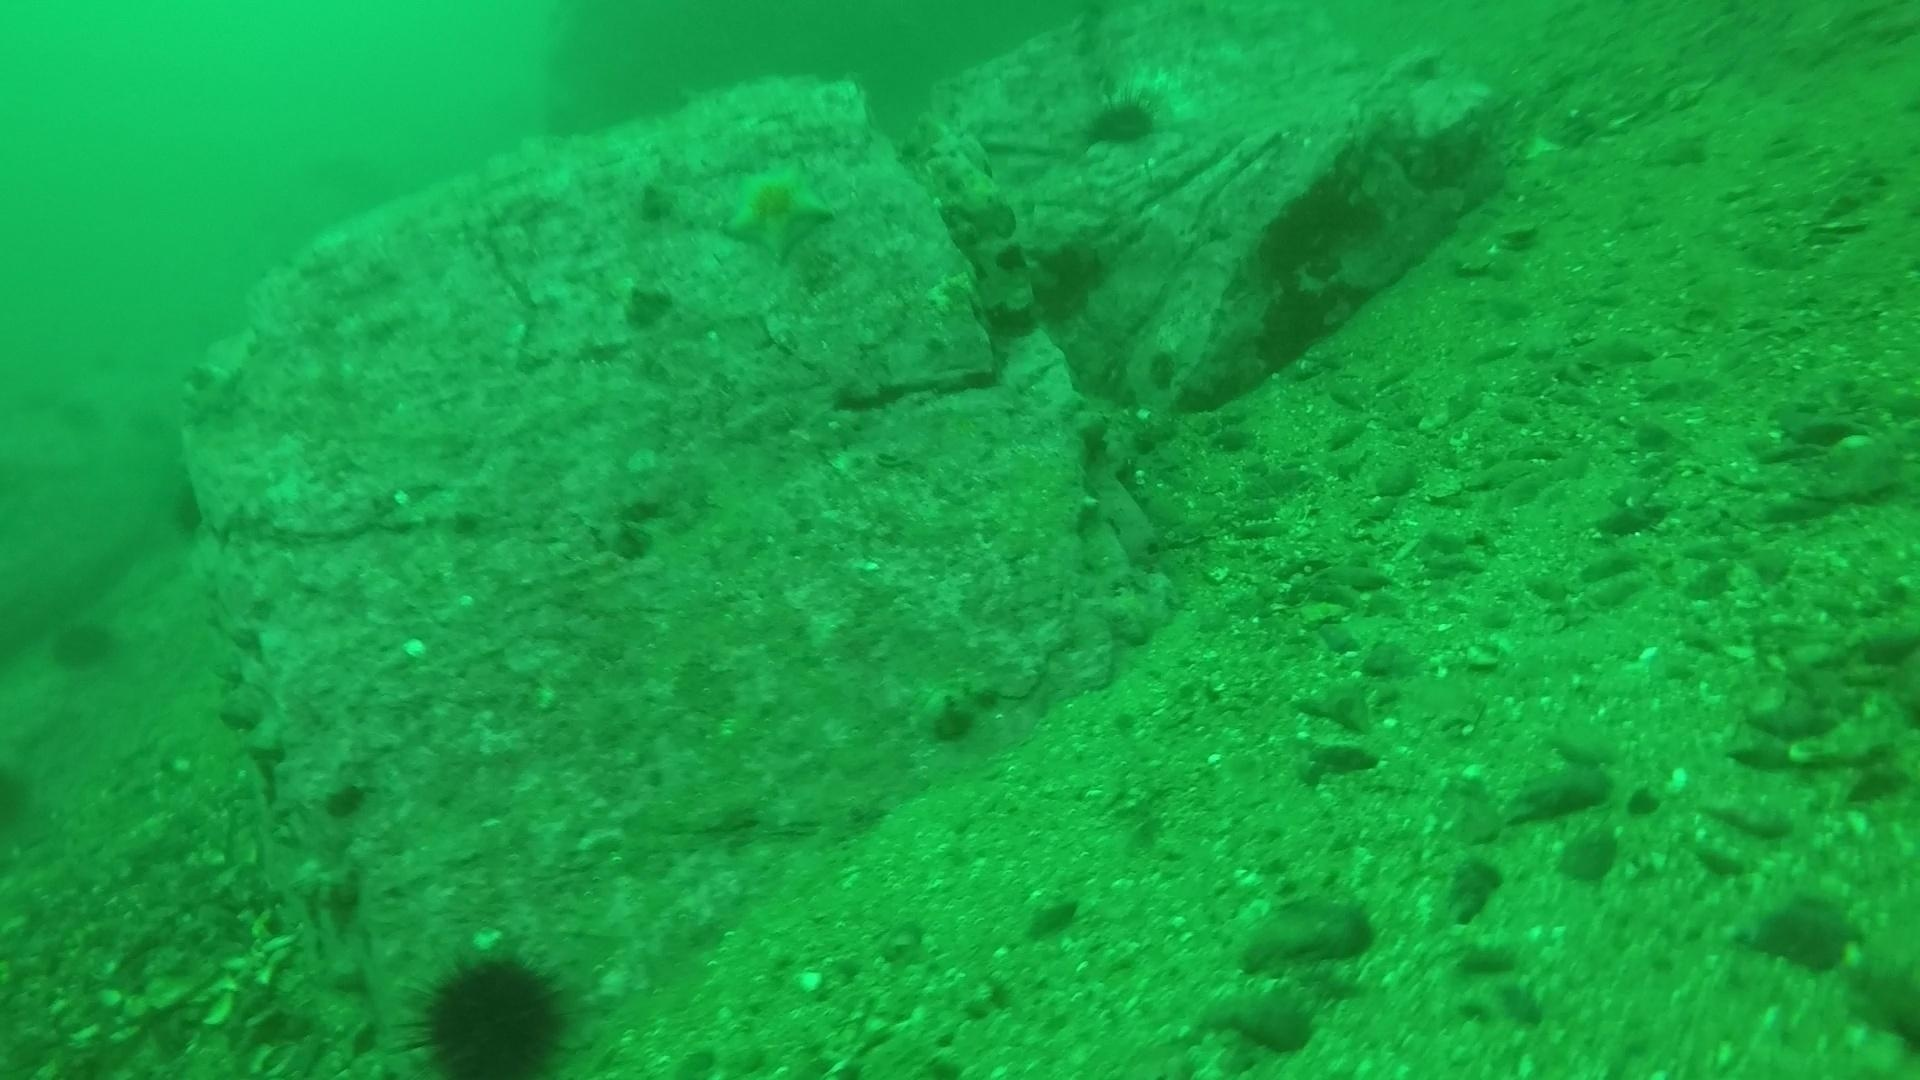echinus: (404, 942, 582, 1077), (1079, 84, 1166, 153), (45, 611, 123, 676)
starfish: (713, 150, 843, 266)
